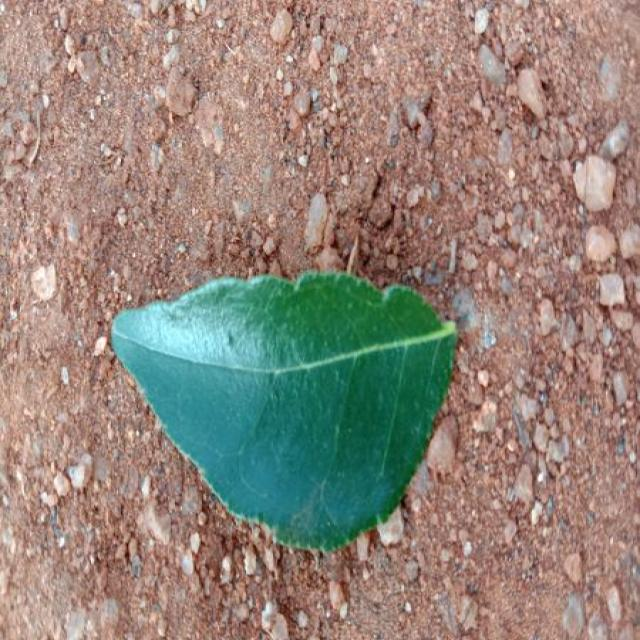curry: (112, 272, 455, 551)
